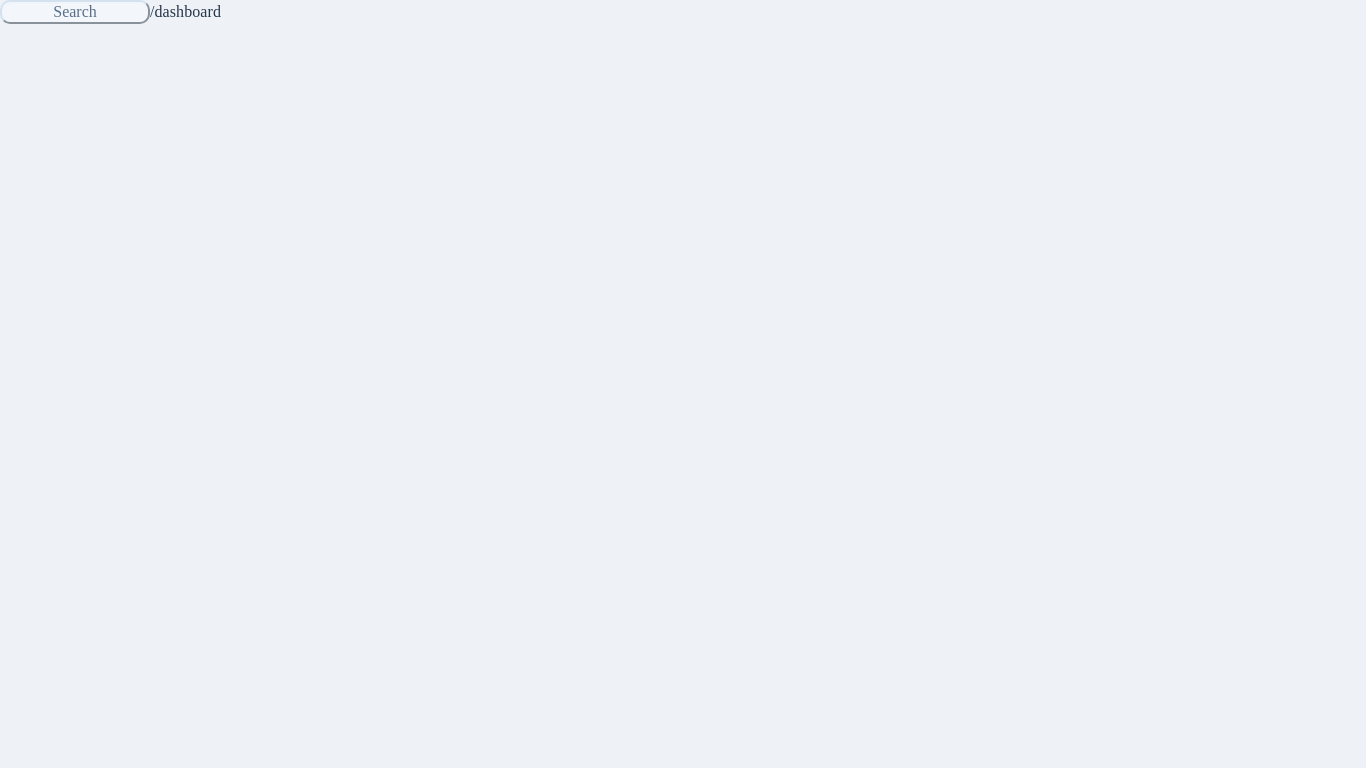
Test: CommandPalette › opens with Ctrl+K and navigates to a command target
Press k
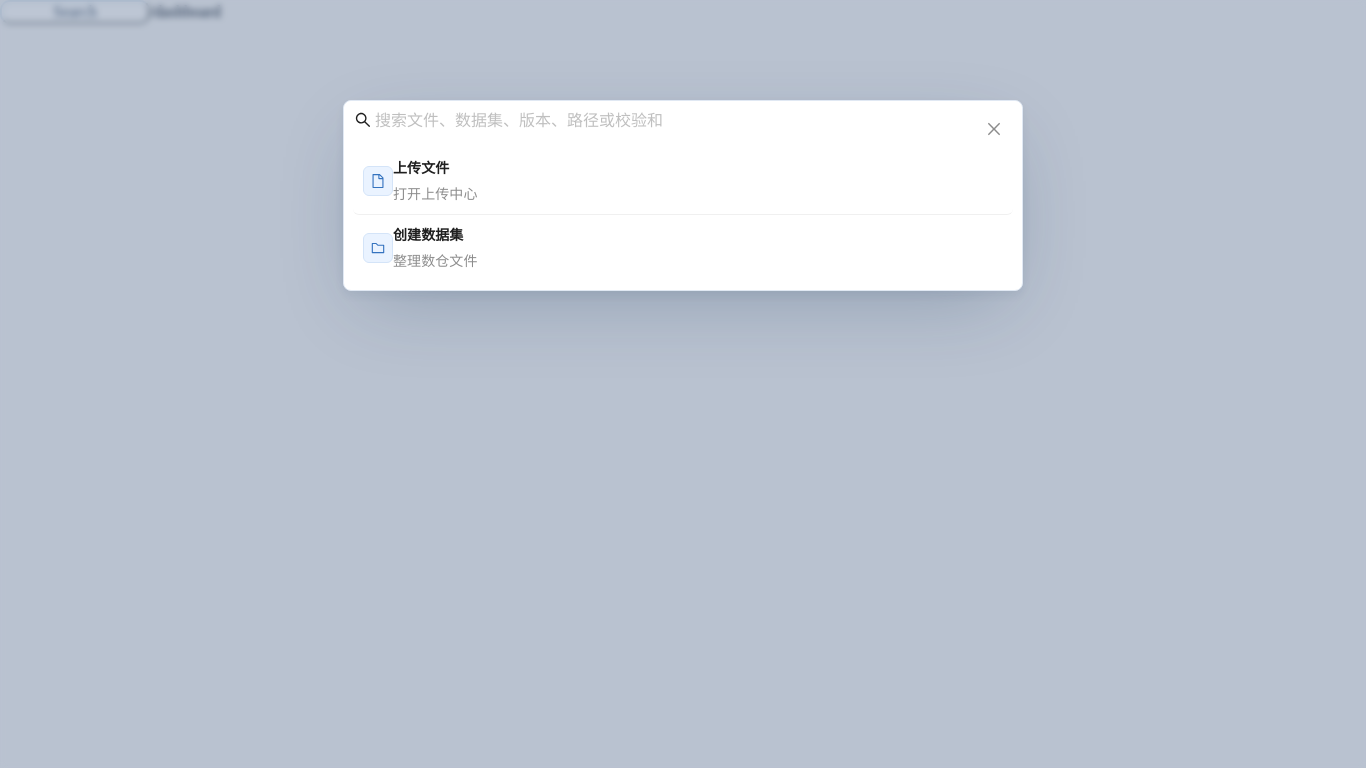
Expected: the field with placeholder "搜索文件、数据集、版本、路径或校验和" is shown, [375,108,1011,132]
Click the heading "上传文件".
click(421, 168)  # box [393,159,449,176]
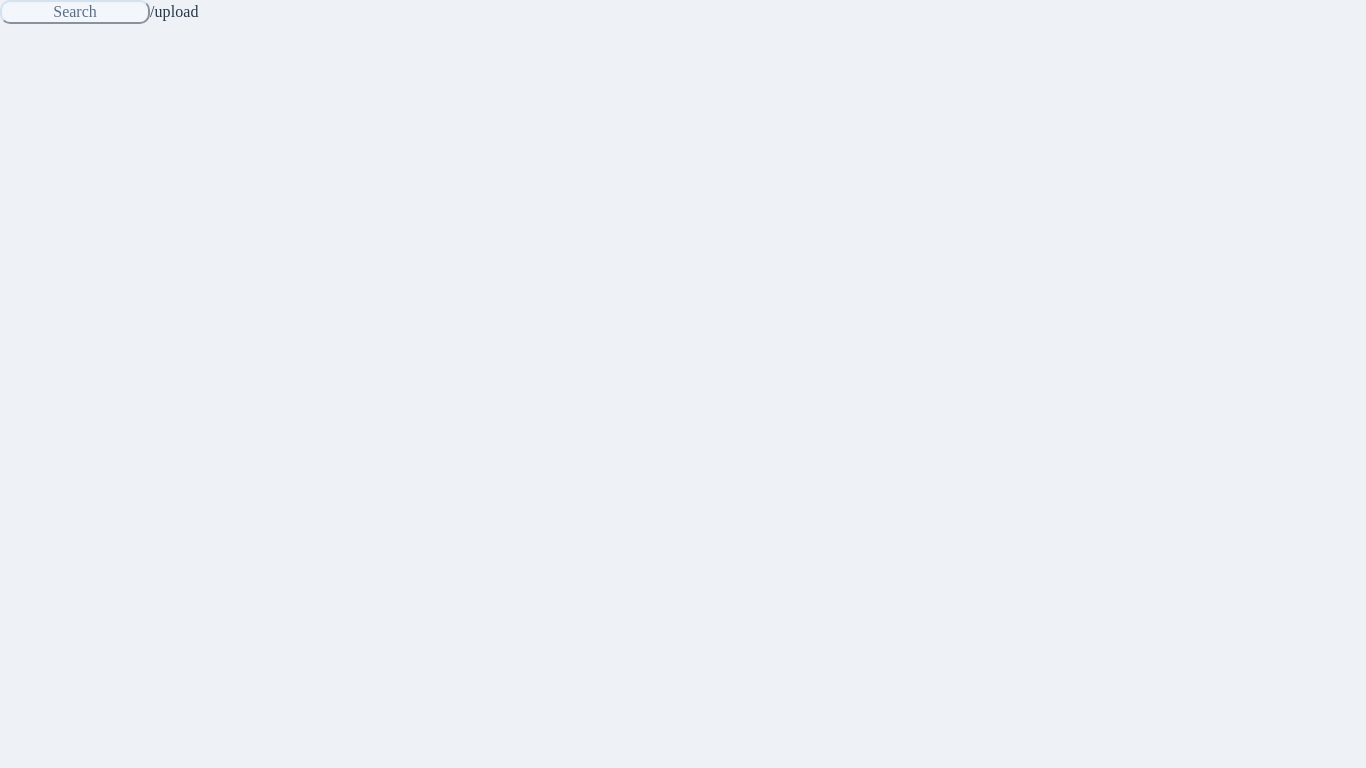
Expected: the text with test id "location" reads "/upload", [150,3,199,20]
